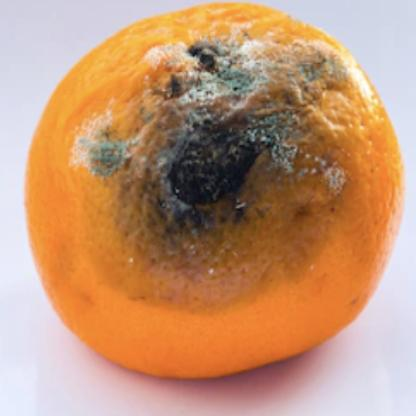rotten: (22, 3, 404, 374)
